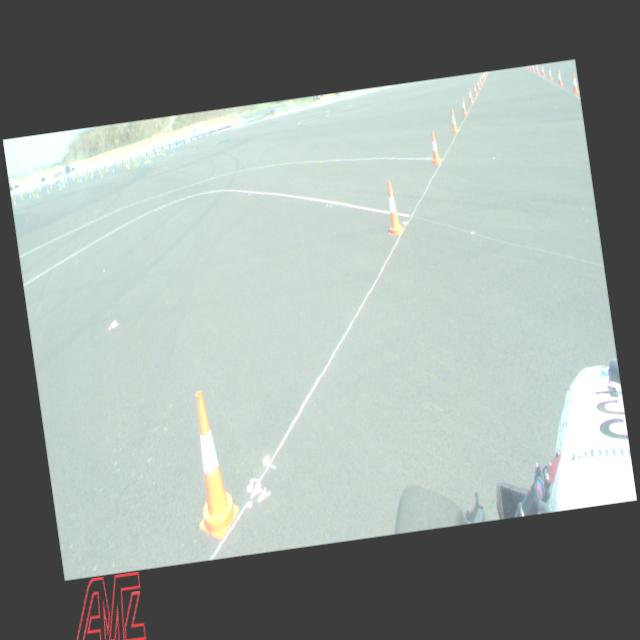orange_cone: (181, 388, 243, 542), (382, 180, 402, 236), (428, 130, 442, 164), (570, 72, 580, 94), (449, 109, 458, 132), (460, 97, 467, 115), (556, 68, 563, 86), (547, 66, 553, 80), (468, 88, 473, 104), (472, 83, 478, 96), (540, 64, 546, 76), (476, 78, 480, 90), (478, 76, 482, 85), (535, 66, 539, 74), (482, 73, 486, 80), (481, 73, 484, 82), (532, 66, 535, 71)
yellow_cone: (46, 185, 50, 192), (14, 198, 16, 205)
